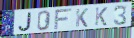0: (37, 10, 52, 32)
3: (113, 4, 128, 26)
F: (53, 8, 73, 31)
J: (17, 12, 32, 32)
K: (94, 6, 109, 27), (75, 8, 89, 28)
